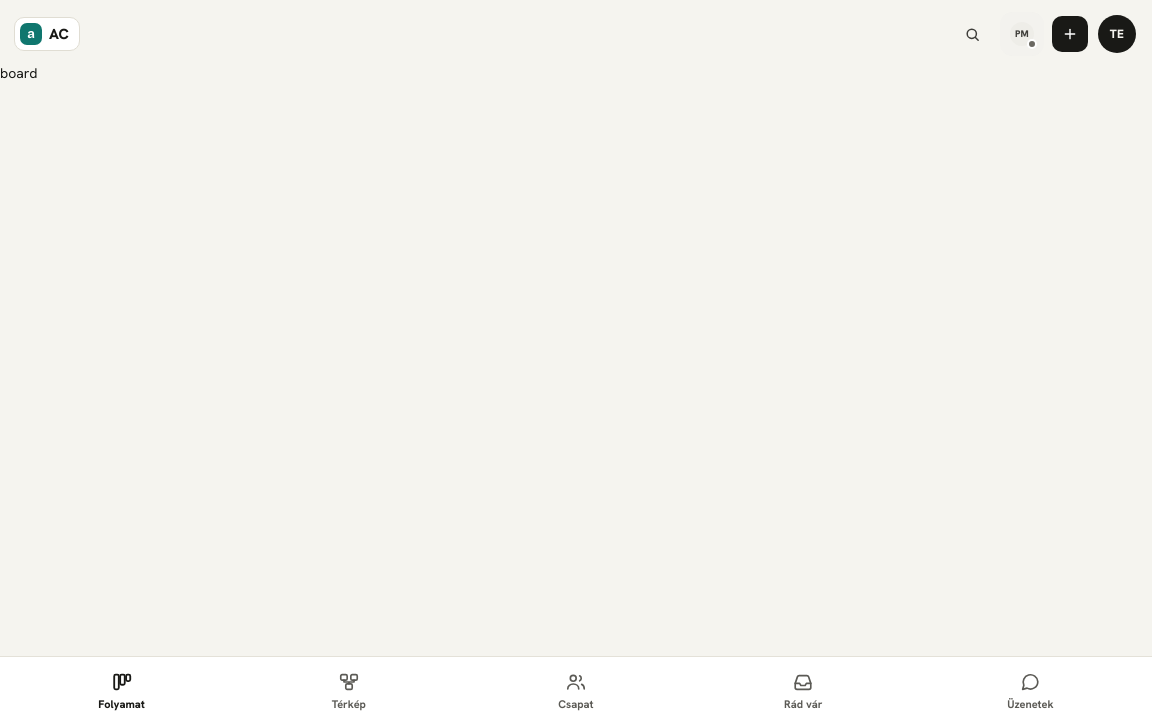
Test: "Hogyan dolgozunk" in the navigation › puts the item in the account menu on a phone, above the settings
The image size is (1152, 720).
Step 1. Click the button "TE" → (1117, 34), box [1096, 13, 1138, 55]
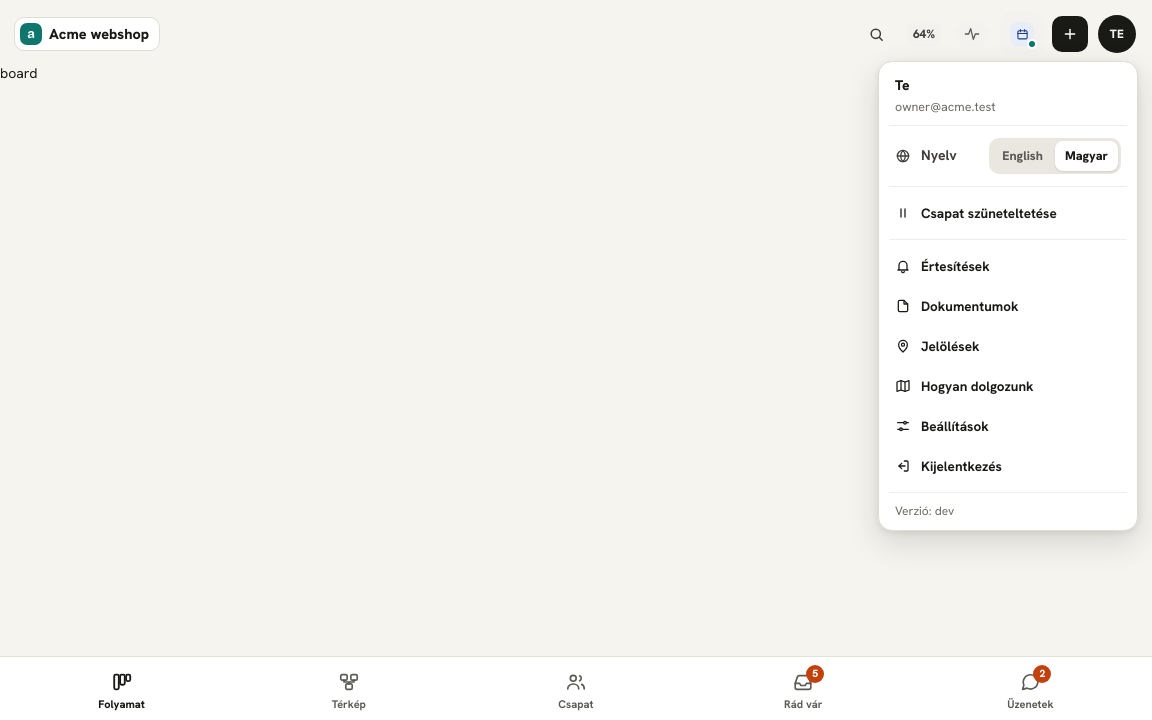
Now the text "Hogyan dolgozunk" is shown, box [921, 377, 1034, 395]
